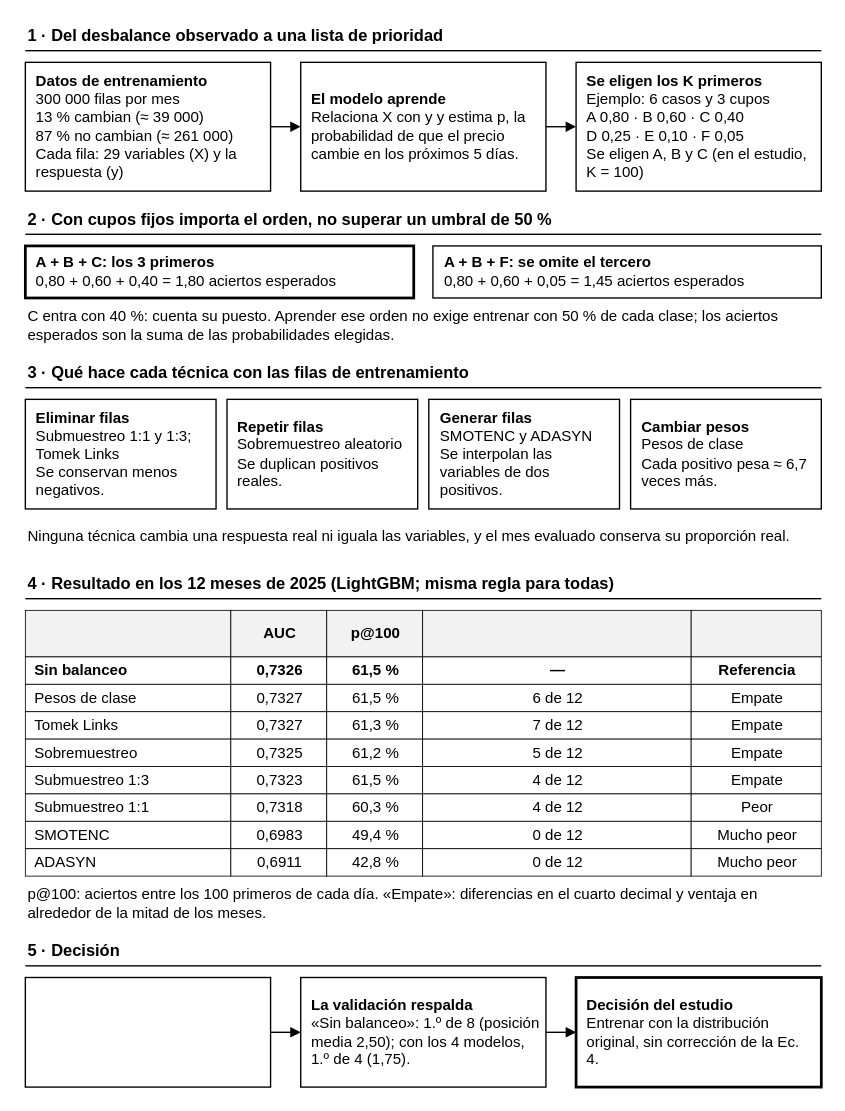
The diagram is 845 pixels wide and 1111 high, and some of its shapes have lost their labels. The centre of each missing label's shape, as x and y in pixels:
La teoría permite Ordenar sin exigir clases 50/50.: point (147, 1031)
Lectura: point (755, 633)
Meses que supera a «sin balanceo» (AUC): point (556, 633)
Técnica: point (127, 633)
